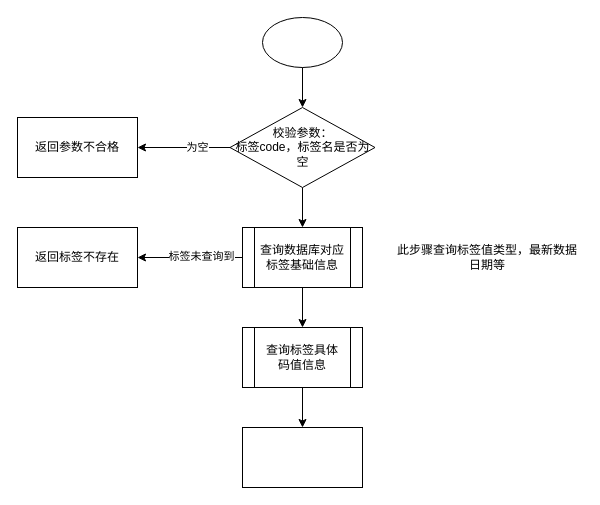
This 600x505 diagram has some shape labels left out. The centre of each missing label's shape, as x and y in pixels:
"写入csv返回文件流" goes at (x=302, y=457).
"标签下载" goes at (x=302, y=42).
